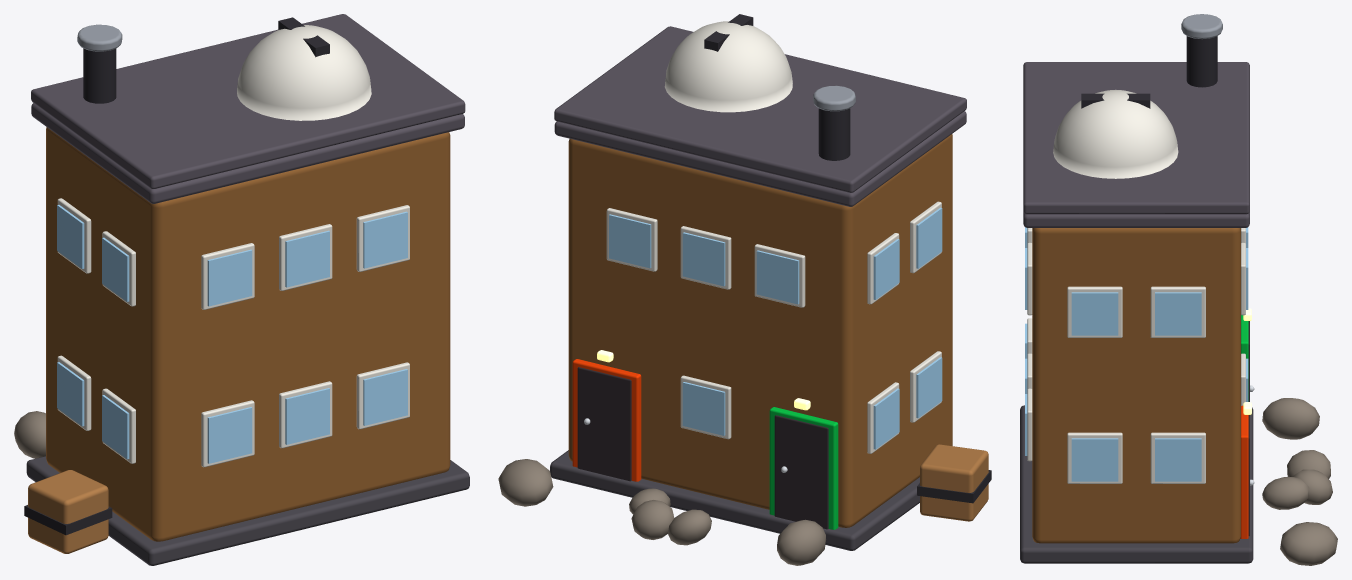
Rendered from building_geology_lab_t2.glb.
3 views of the same model, side by side, from view 1: azimuth 30°, elevation 25°; view 2: azimuth 150°, elevation 25°; view 3: azimuth 270°, elevation 25° (orthographic). The views are drawn at different scales.
Visible parts, largest first — view 1: Walls, Roof.Parapet, Dome, Plinth, Roof.Slab, Crate.Box, WinB1.Pane, WinB0.Pane, WinB0.Pane.001, WinB1.Pane.001, WinB0.Pane.002, WinB1.Pane.002 (+19 smaller); view 2: Walls, Roof.Parapet, Dome, Plinth, Roof.Slab, Exit.Leaf, Entry.Leaf, Crate.Box, Exit.Frame, Entry.Frame, Sample4, Win1.Pane.001 (+21 smaller); view 3: Walls, Roof.Parapet, Dome, Plinth, Roof.Slab, WinR0.Pane, WinR1.Pane, WinR0.Pane.001, WinR1.Pane.001, Sample4, Sample1, Chimney.Stack (+12 smaller).
Part boxes in pixels (<box>): Walls: <box>46,127,450,541</box>; Roof.Parapet: <box>31,14,465,188</box>; Dome: <box>237,25,371,120</box>; Plinth: <box>26,456,469,565</box>; Roof.Slab: <box>31,103,464,203</box>; Crate.Box: <box>28,470,108,553</box>; WinB1.Pane: <box>207,249,252,306</box>; WinB0.Pane: <box>207,407,252,463</box>; WinB0.Pane.001: <box>285,388,329,444</box>; WinB1.Pane.001: <box>285,230,329,287</box>; WinB0.Pane.002: <box>363,369,407,425</box>; WinB1.Pane.002: <box>363,211,407,268</box>; Walls: <box>568,134,952,527</box>; Roof.Parapet: <box>554,26,966,192</box>; Dome: <box>664,21,792,112</box>; Plinth: <box>550,450,919,550</box>; Roof.Slab: <box>554,111,966,206</box>; Exit.Leaf: <box>577,367,631,481</box>; Entry.Leaf: <box>774,415,828,529</box>; Crate.Box: <box>920,444,988,521</box>; Exit.Frame: <box>572,359,641,481</box>; Entry.Frame: <box>769,407,838,529</box>; Sample4: <box>498,459,553,506</box>; Win1.Pane.001: <box>682,232,725,286</box>; Walls: <box>1032,228,1240,543</box>; Roof.Parapet: <box>1023,62,1249,214</box>; Dome: <box>1053,89,1178,178</box>; Plinth: <box>1020,405,1253,563</box>; Roof.Slab: <box>1023,211,1249,227</box>; WinR0.Pane: <box>1071,438,1118,481</box>; WinR1.Pane: <box>1071,292,1118,335</box>; WinR0.Pane.001: <box>1155,438,1201,481</box>; WinR1.Pane.001: <box>1155,292,1201,335</box>; Sample4: <box>1280,522,1337,565</box>; Sample1: <box>1262,398,1319,439</box>; Chimney.Stack: <box>1186,36,1217,87</box>.
Bounding box in the file's own units: 3.91 × 4.2 × 2.86.
